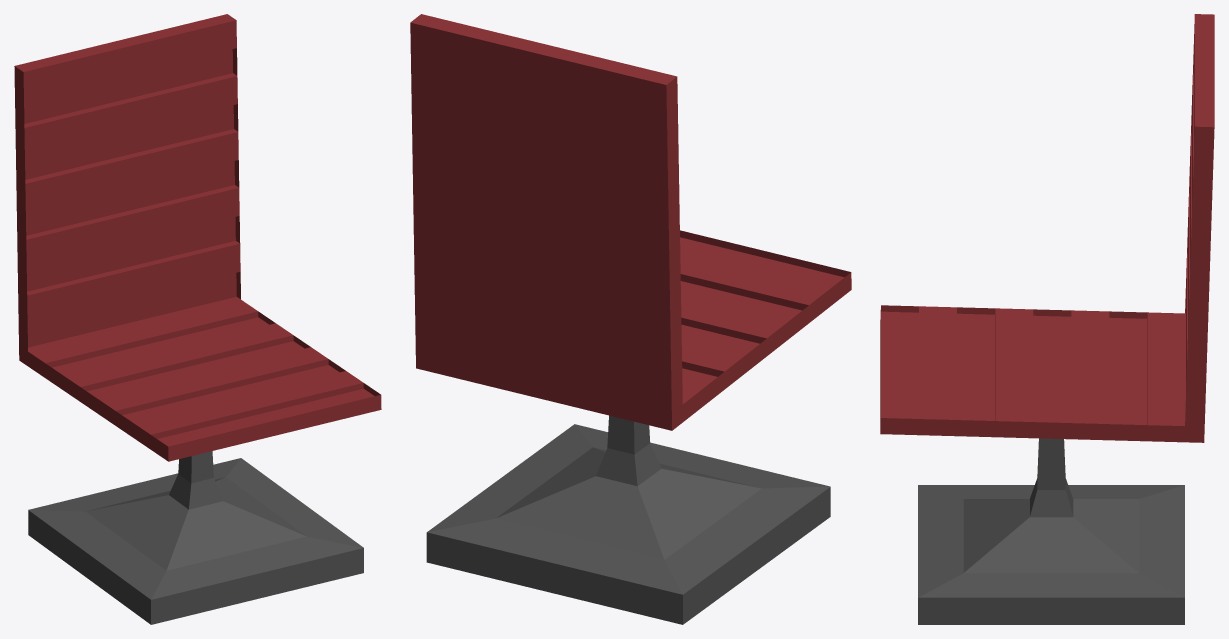
File: Chair.fbx
The picture shows the model from 3 angles, left to right: view 1: azimuth 30°, elevation 25°; view 2: azimuth 150°, elevation 25°; view 3: azimuth 270°, elevation 25°; orthographic projection. The views are drawn at different scales.
Parts seen in each view (by area): view 1: Cube.001, Cube; view 2: Cube.001, Cube; view 3: Cube.001, Cube.
Part boxes in pixels (x1,y1,x2,y2): Cube.001: (14, 14, 381, 461); Cube: (28, 451, 363, 624); Cube.001: (410, 14, 851, 430); Cube: (426, 415, 830, 624); Cube.001: (880, 14, 1214, 442); Cube: (918, 438, 1184, 624).
Bounding box in the file's own units: 200 × 412 × 251.
